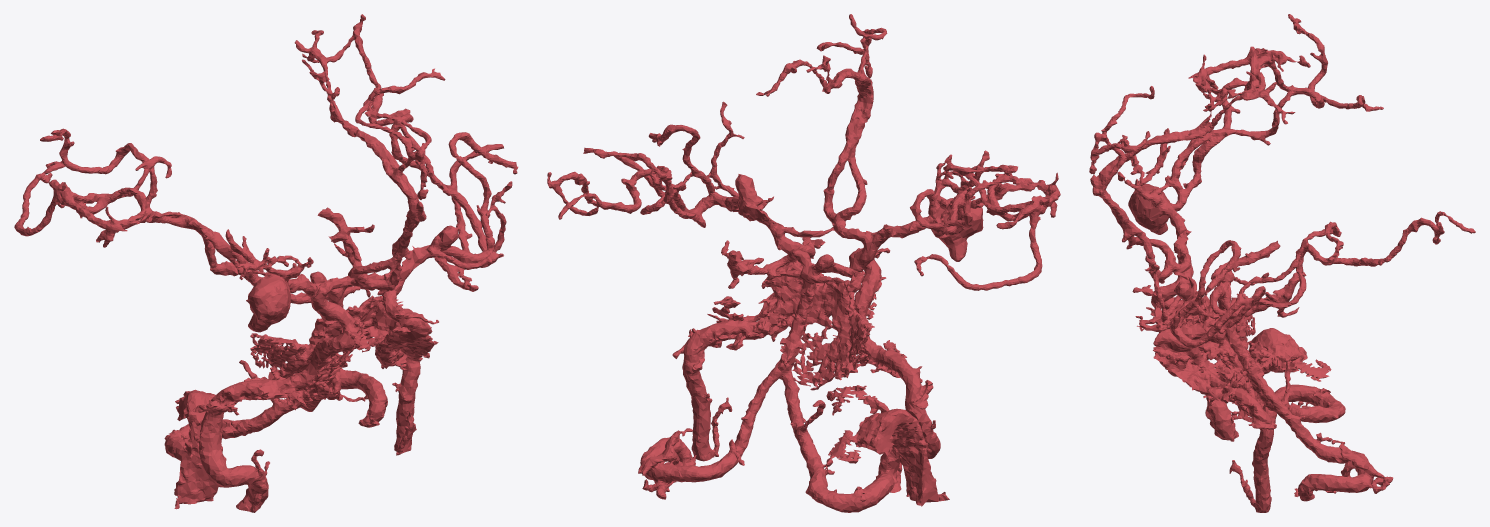
Rendered from aneurysm.glb.
3 views of the same model, side by side, from view 1: azimuth 30°, elevation 25°; view 2: azimuth 150°, elevation 25°; view 3: azimuth 270°, elevation 25° (orthographic). The views are drawn at different scales.
Visible parts, largest first — view 1: Aneurysm; view 2: Aneurysm; view 3: Aneurysm.
Boxes of the visible parts, <box> form: Aneurysm: <box>14,14,518,512</box>; Aneurysm: <box>547,14,1060,512</box>; Aneurysm: <box>1089,14,1475,512</box>.
Bounding box in the file's own units: 31.24 × 28.07 × 25.4.
